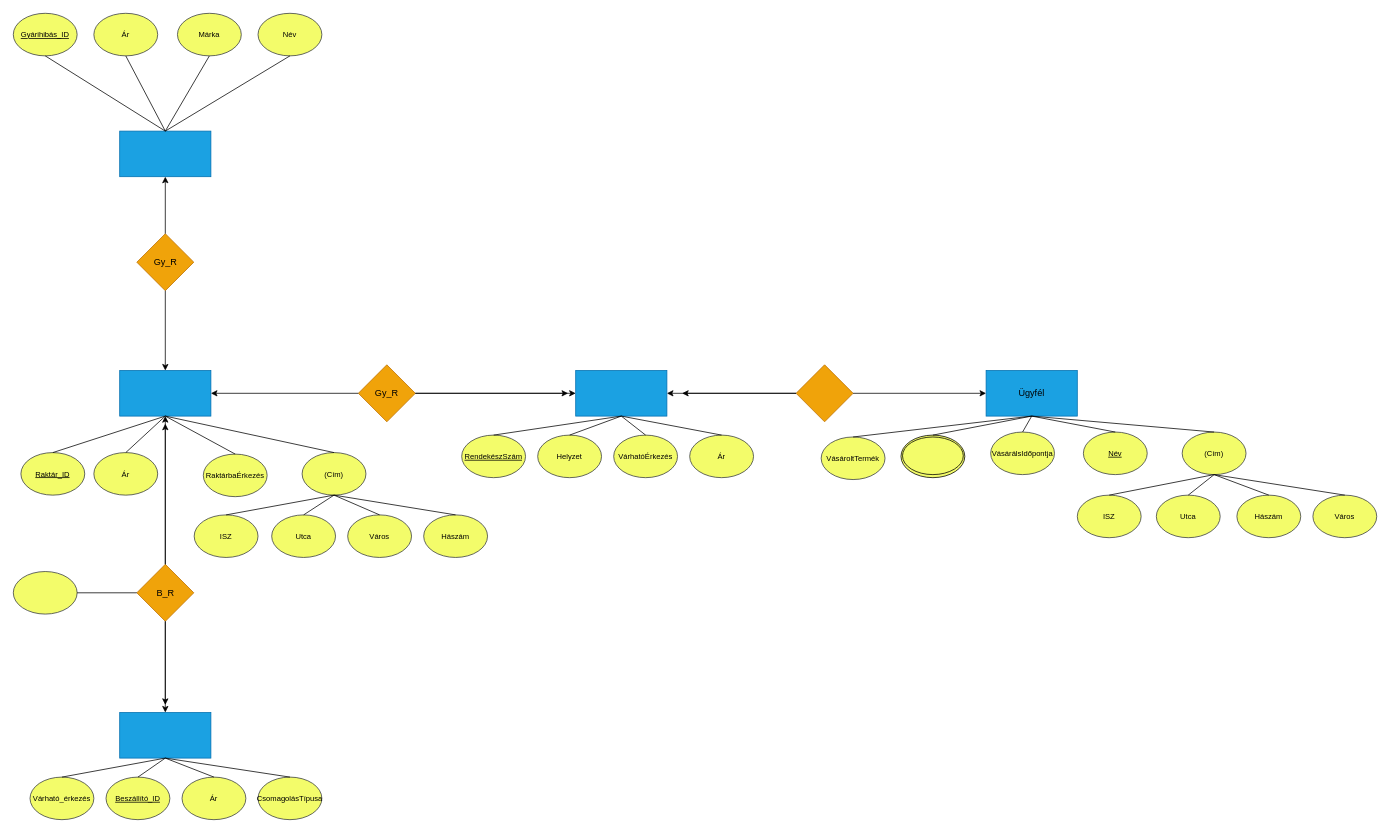
Image size: 1390x833. Some labels were removed from this diagram. The shapes that lost their labels are listed below. From the top down, each one's box as (x1, y1, x2, y2) in pixels, then its label:
(119, 130, 211, 177): Gyárihibás
(119, 370, 211, 416): Raktárak
(575, 370, 667, 416): Rendelés
(795, 364, 853, 422): R_Ü
(900, 434, 965, 478): Telfonszám
(13, 571, 77, 614): Darabszám
(119, 712, 211, 758): Beszállító
